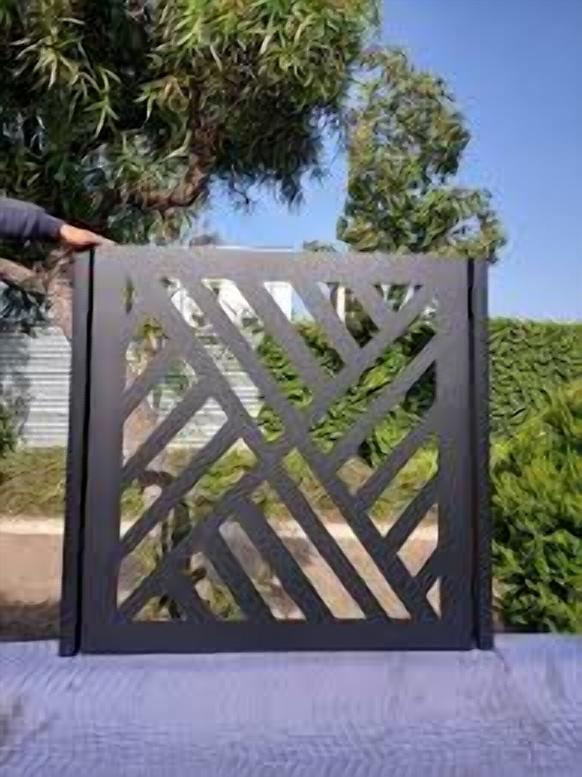Gate: (60, 244, 493, 657)
